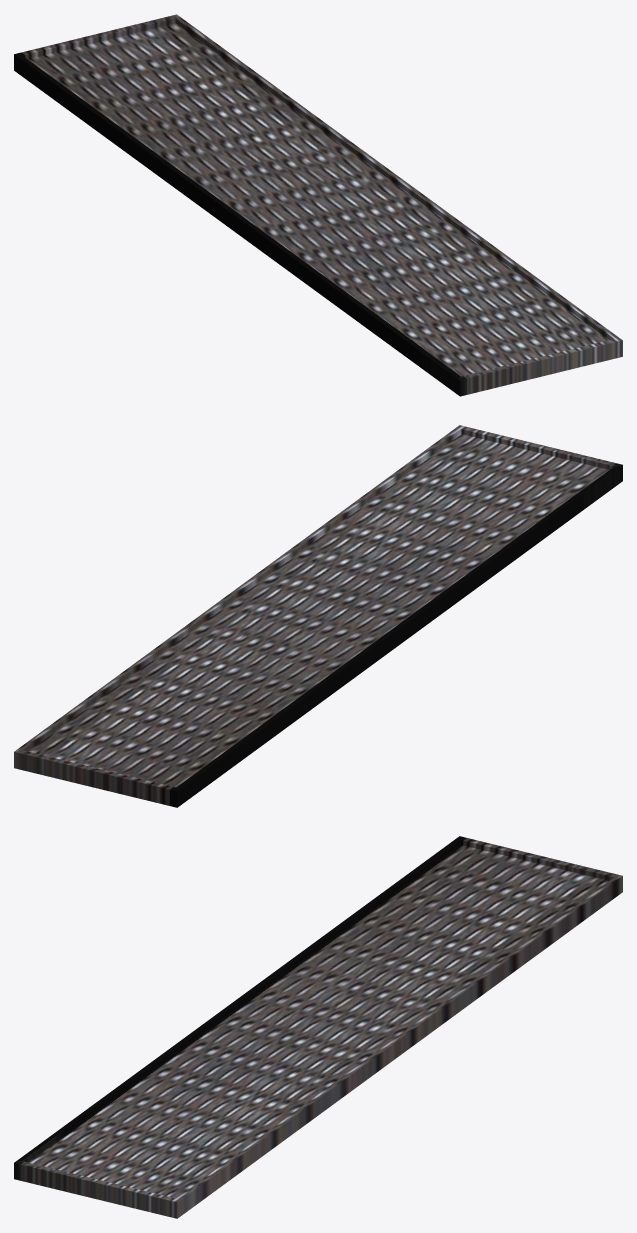
Rendered from hasigo2.obj.
3 views of the same model, one above another, from view 1: azimuth 30°, elevation 25°; view 2: azimuth 150°, elevation 25°; view 3: azimuth 330°, elevation 25° (orthographic).
Bounding box in the file's own units: 1.56 × 0.1484 × 7.35.
Materials: 1 (1 with a texture image).
